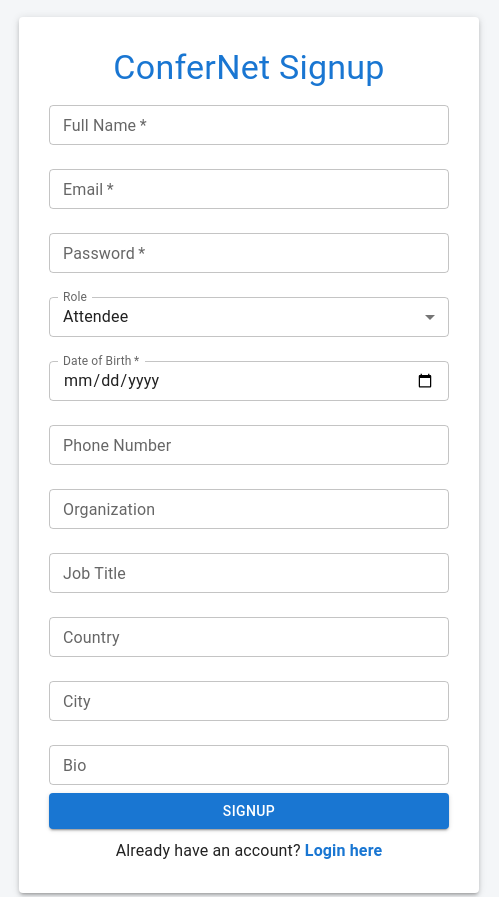
Scenario: Signup Component › test-id: 16, shows error message on failed signup
Type "Jane" into the field labelled "Full Name *" at (249, 125), box [49, 105, 449, 145]
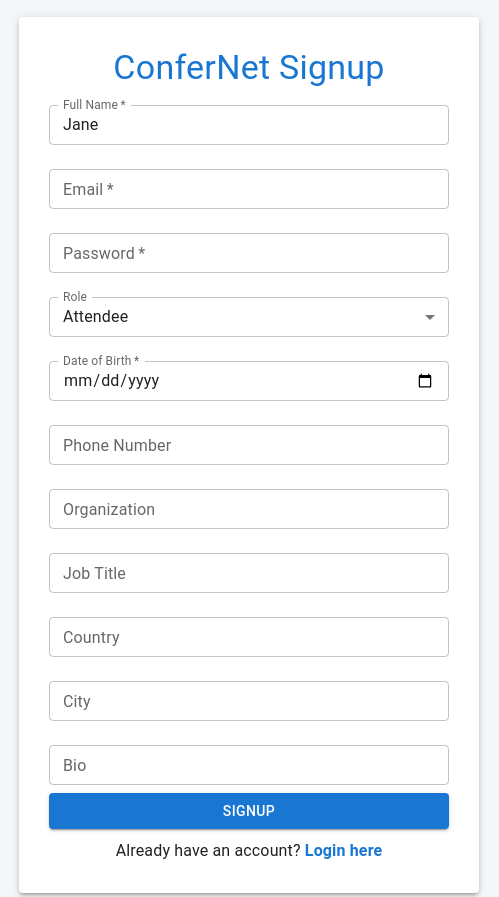
Type "jane@example.com" into the field labelled "Email *" at (249, 189), box [49, 169, 449, 209]
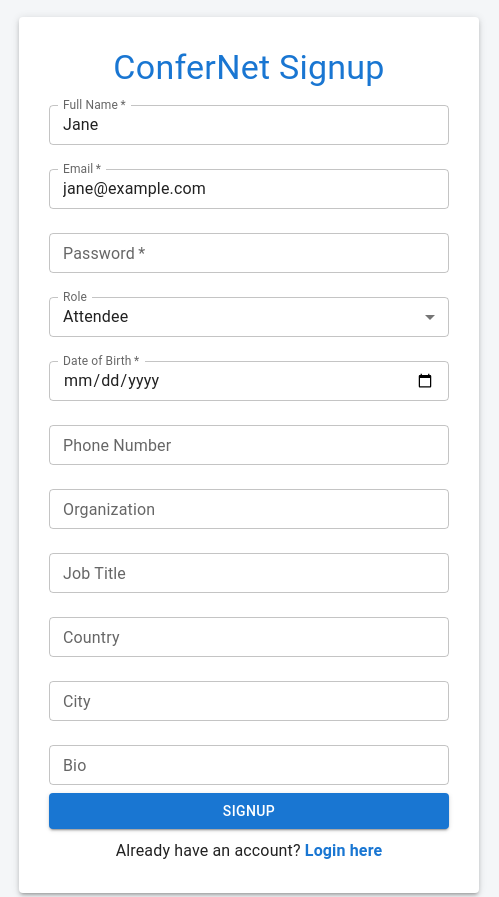
Type "pass" into the password field labelled "Password *" at (249, 253), box [49, 233, 449, 273]
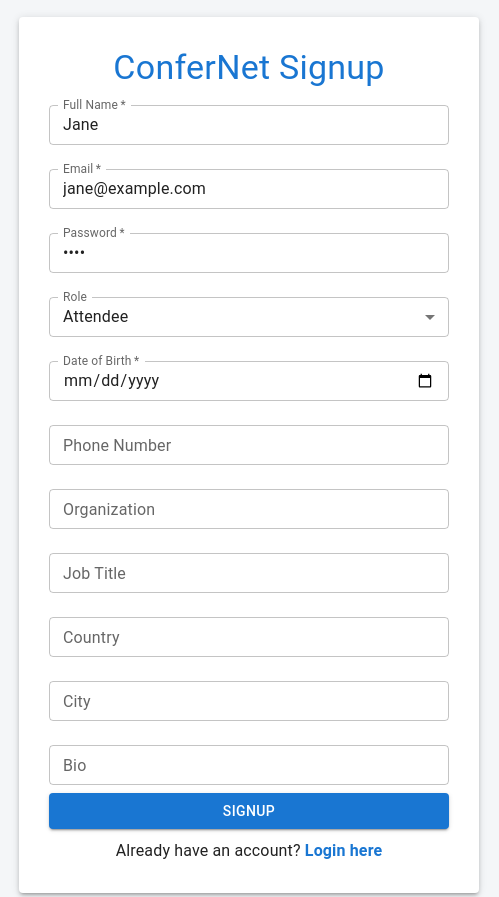
Type "1990-01-01" into the date field labelled "Date of Birth *" at (249, 381), box [49, 361, 449, 401]
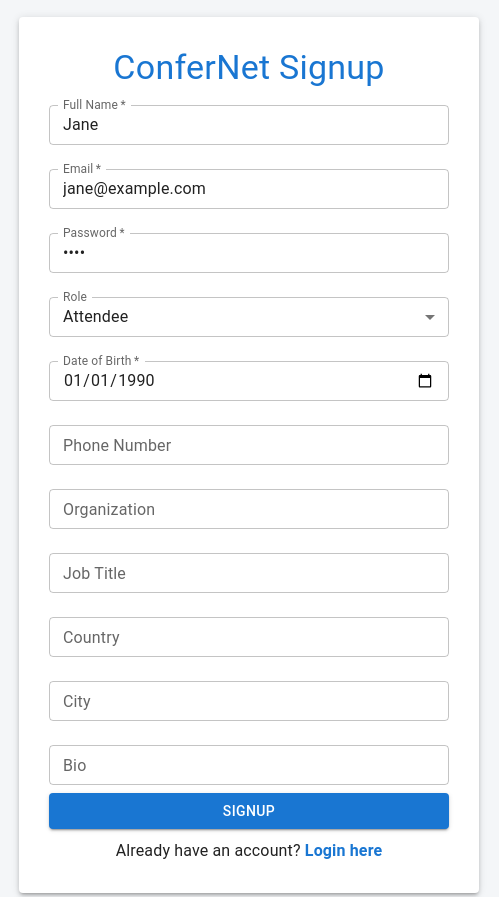
Click the button "Signup" at (249, 811), box [49, 793, 449, 829]
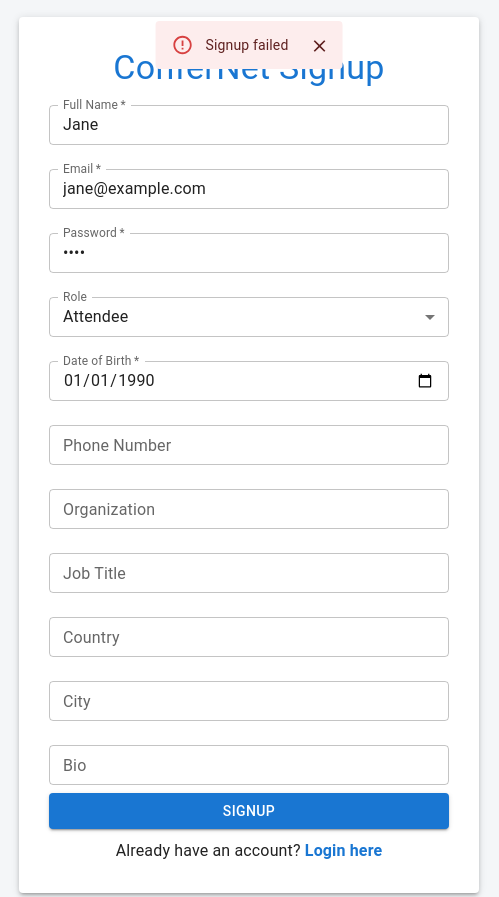
Expected: the message reads "Signup failed", [206, 37, 288, 53]
